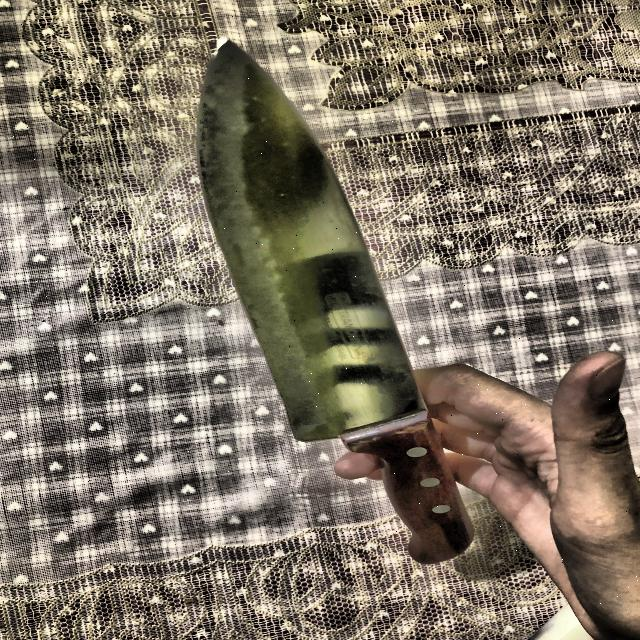knife: (192, 41, 474, 565)
